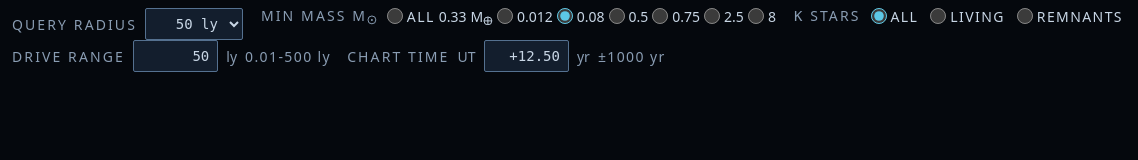
Test: ChartControls › enters nothing for a chart time emptied and left, and refuses nothing
Clear the field labelled "CHART TIME": [526, 56] box [484, 40, 569, 72]
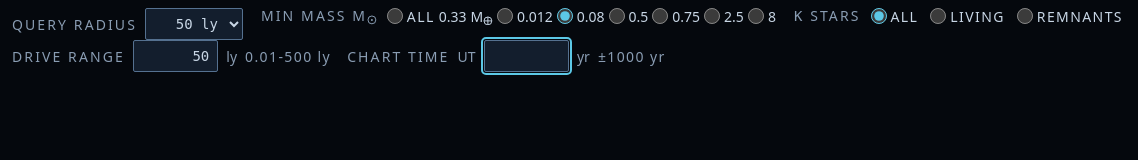
Press Tab
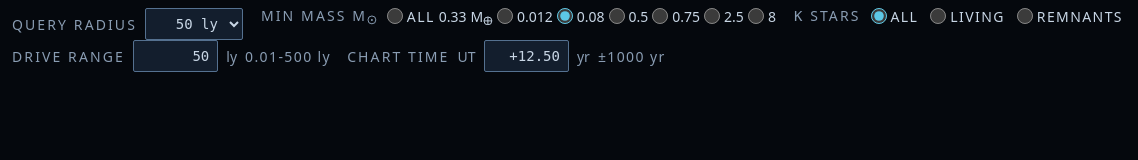
Check: the field labelled "CHART TIME" holds "+12.50", box [484, 40, 569, 72]
